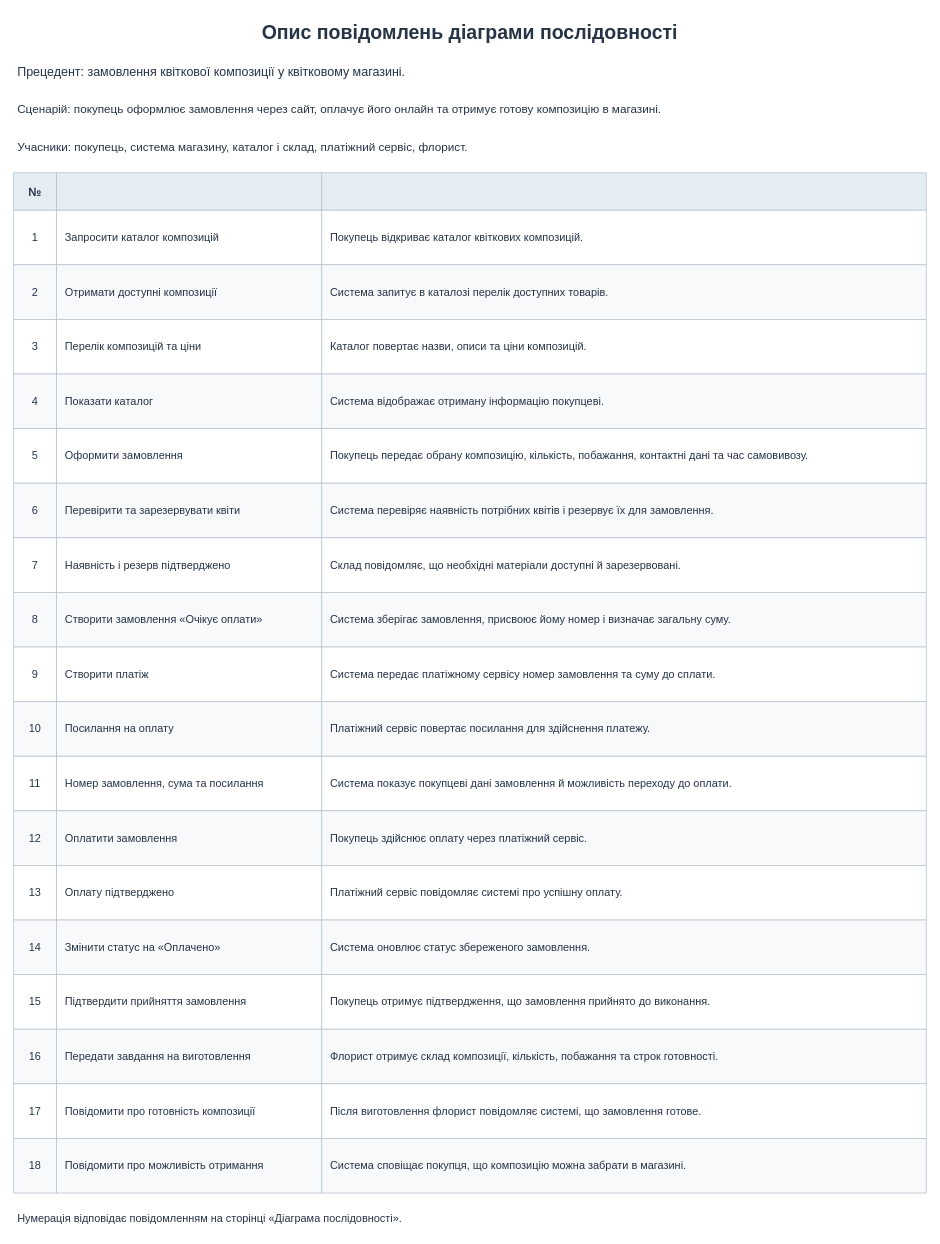
The diagram is 940 pixels wide and 1244 high, and some of its shapes have lost their labels. Each missing label, with the centre of its shape:
Короткий опис: the point at 623,191
Повідомлення: the point at 189,191
